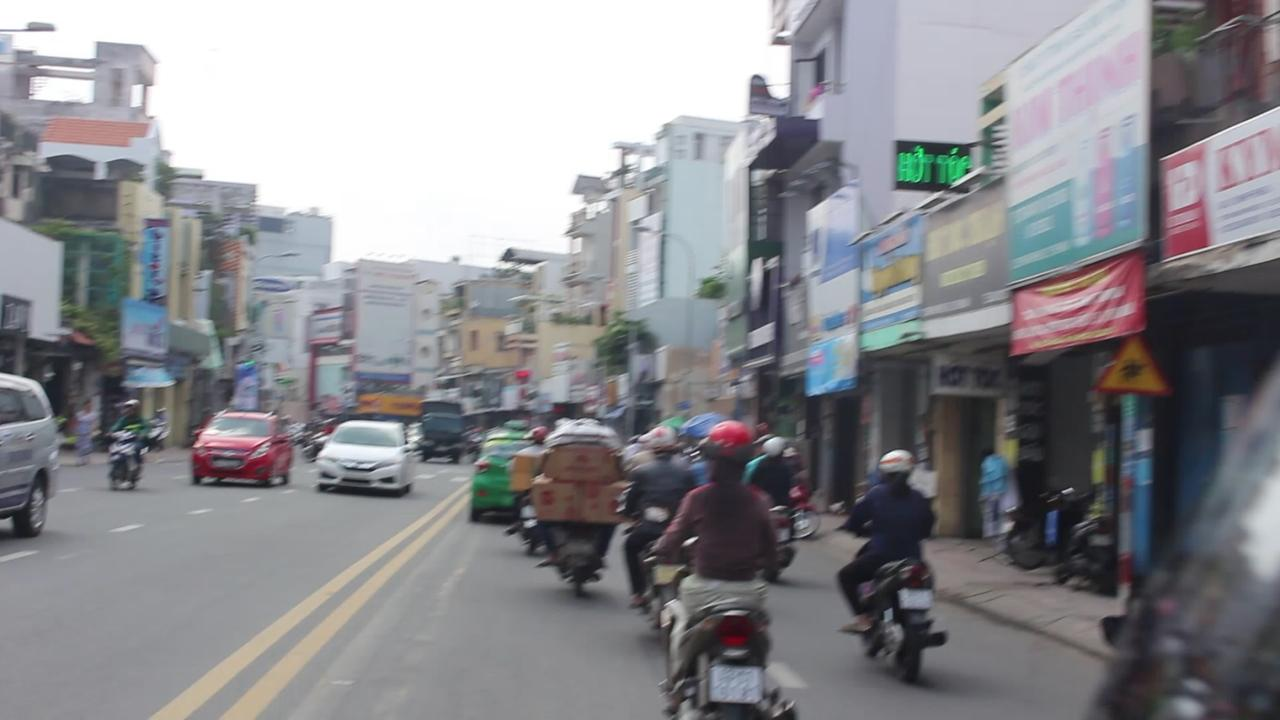R.301e: (1094, 328, 1174, 394)
